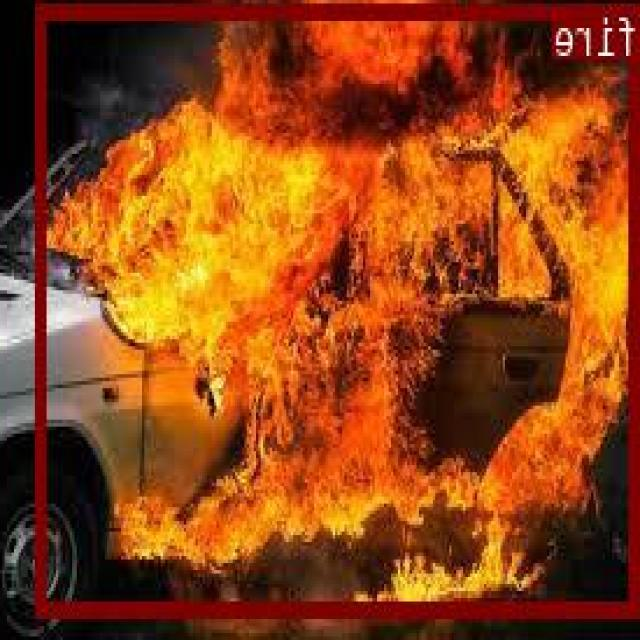fire: (40, 0, 640, 612)
